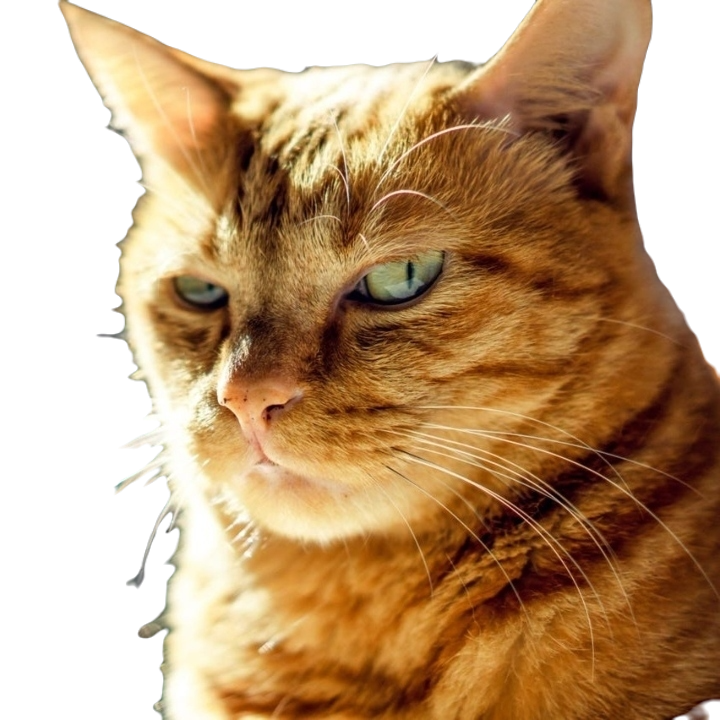Cat: (31, 2, 719, 719)
